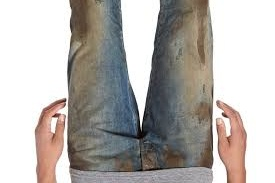earth: (196, 3, 209, 63), (71, 0, 89, 36), (200, 143, 212, 168), (195, 105, 212, 122), (164, 151, 182, 167), (114, 154, 132, 170)
